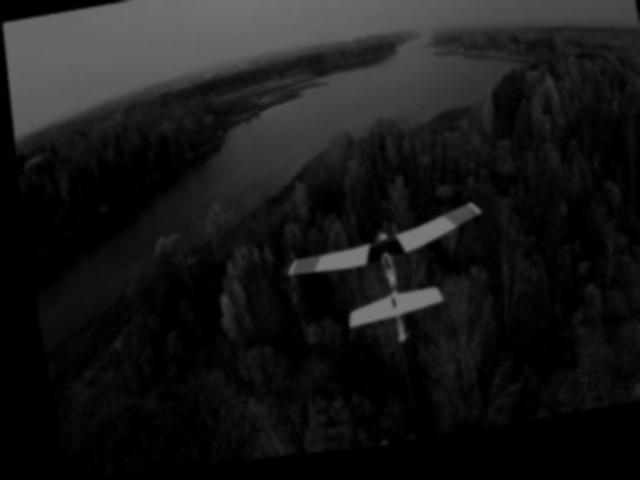hedef: (261, 205, 501, 366)
